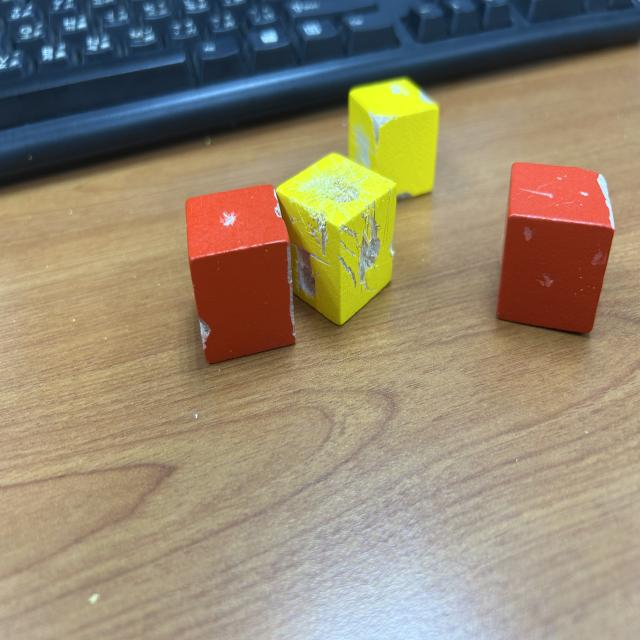broken: (275, 152, 397, 329), (496, 162, 616, 334), (186, 183, 297, 364), (348, 76, 439, 204)
